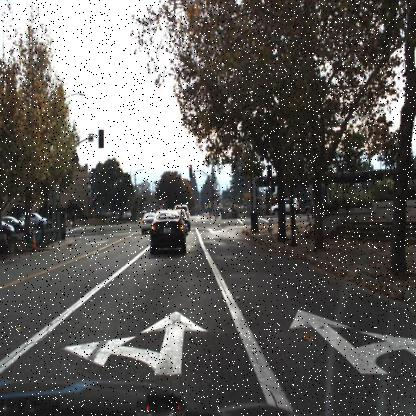car: (148, 206, 188, 255), (20, 208, 54, 230), (267, 196, 301, 218), (139, 211, 156, 236)
trafficLight-Red: (90, 196, 97, 209), (188, 163, 193, 180), (213, 187, 218, 197)
